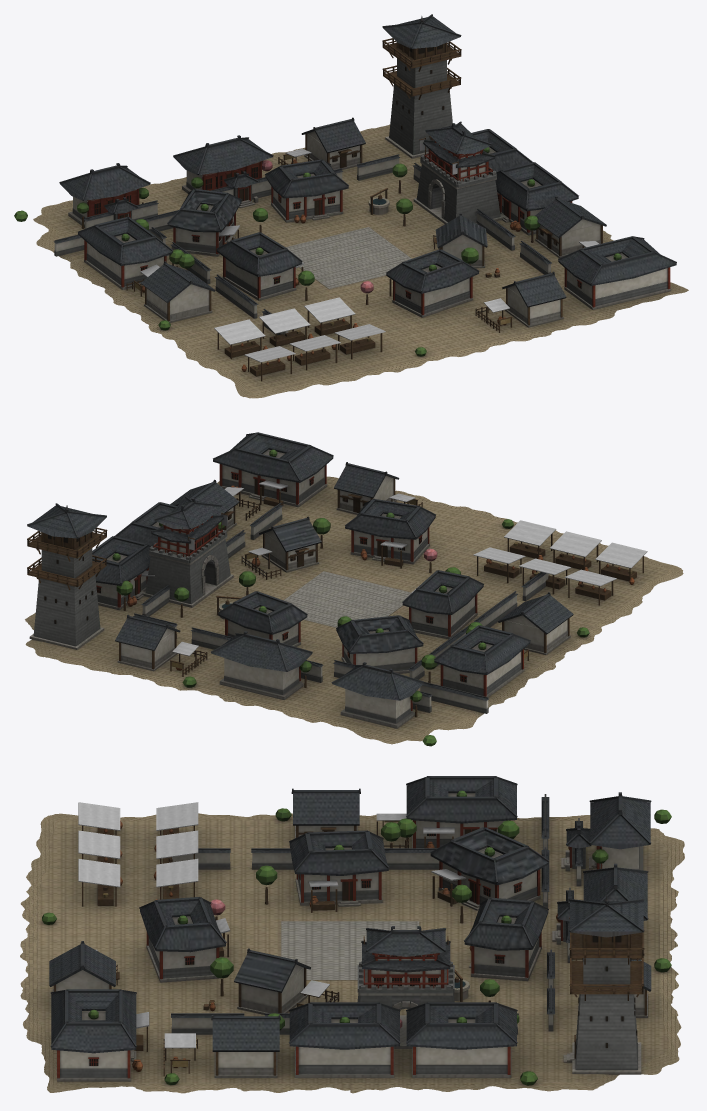
The model's file is classical-town-medium-b-sinic.glb.
The picture shows the model from 3 angles, top to bottom: view 1: azimuth 30°, elevation 25°; view 2: azimuth 150°, elevation 25°; view 3: azimuth 270°, elevation 25°; orthographic projection. The views are drawn at different scales.
Parts seen in each view (by area): view 1: LOD0; view 2: LOD0; view 3: LOD0.
Part boxes in pixels (<box>): LOD0: <box>14,14,688,398</box>; LOD0: <box>25,432,683,746</box>; LOD0: <box>20,776,684,1093</box>.
Size of what is drawn, in the model's own units: 6.03 by 1.66 by 6.09.
Materials: 3 (3 with a texture image).
